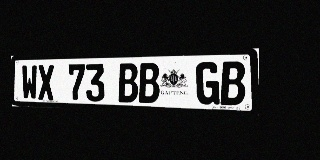3: (86, 64, 104, 102)
7: (67, 64, 86, 101)
B: (220, 61, 245, 105), (139, 63, 160, 103), (118, 63, 138, 103)
G: (196, 62, 220, 105)
W: (21, 65, 38, 100)
X: (38, 65, 55, 100)
